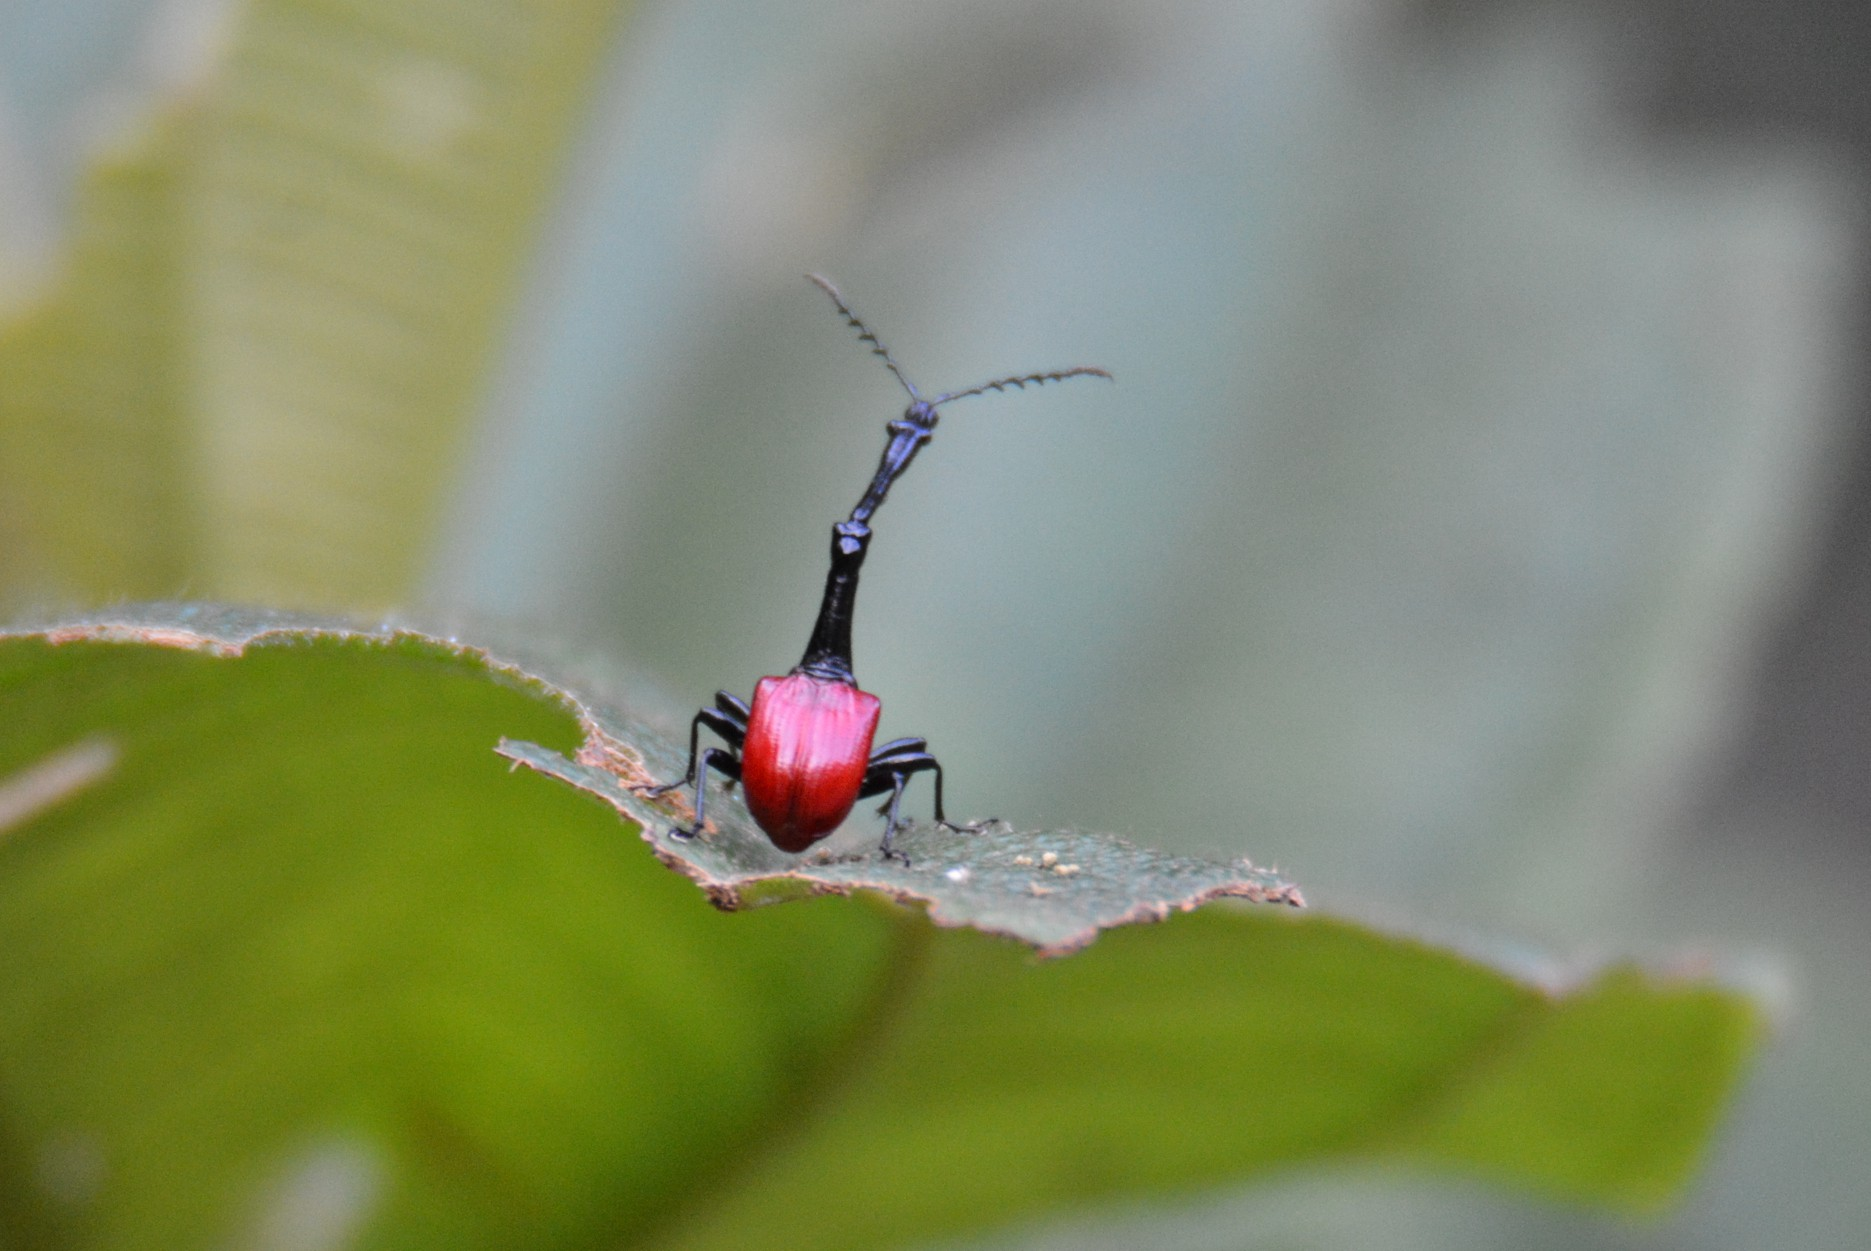dolgonosik: (681, 261, 1111, 874)
